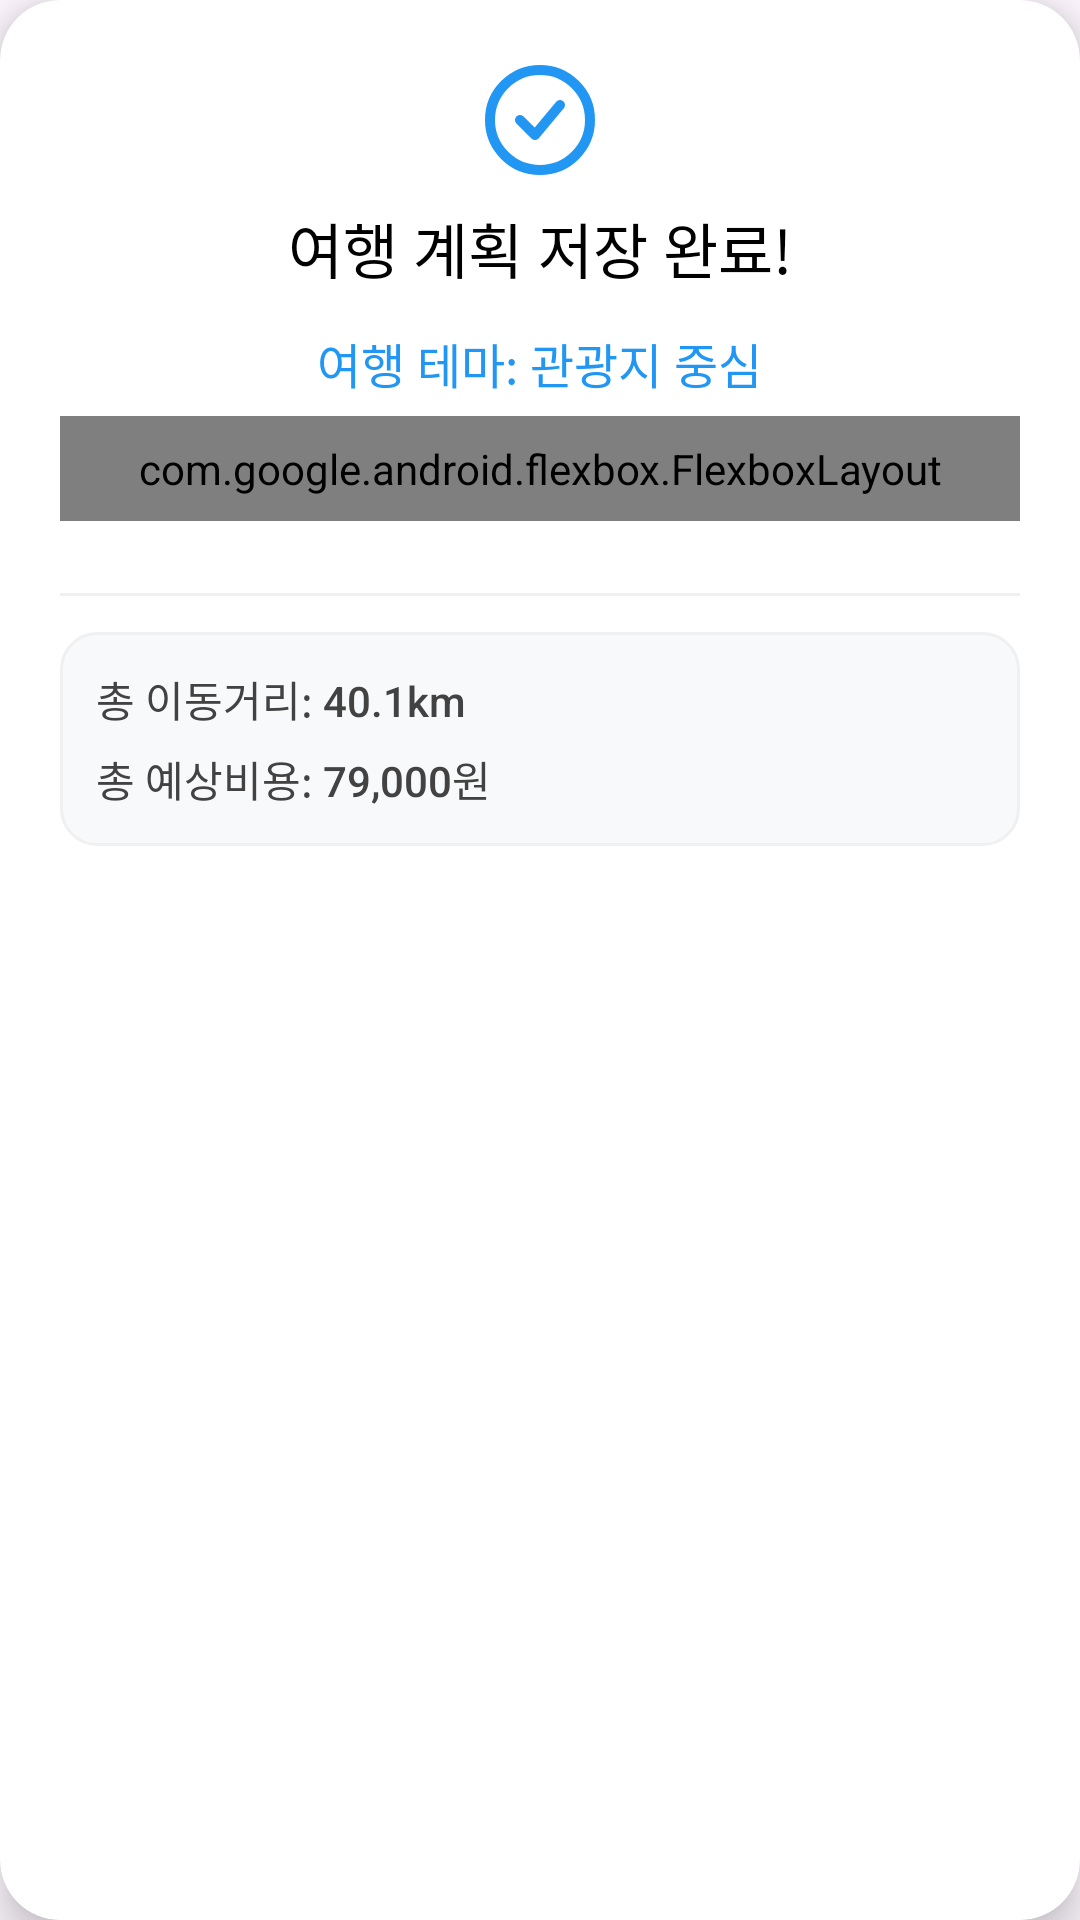

Icon bounding boxes for this 1080px×1920px phone screenshot, format box(x1, y1, x2, y2):
check circle: box(485, 65, 595, 175)
